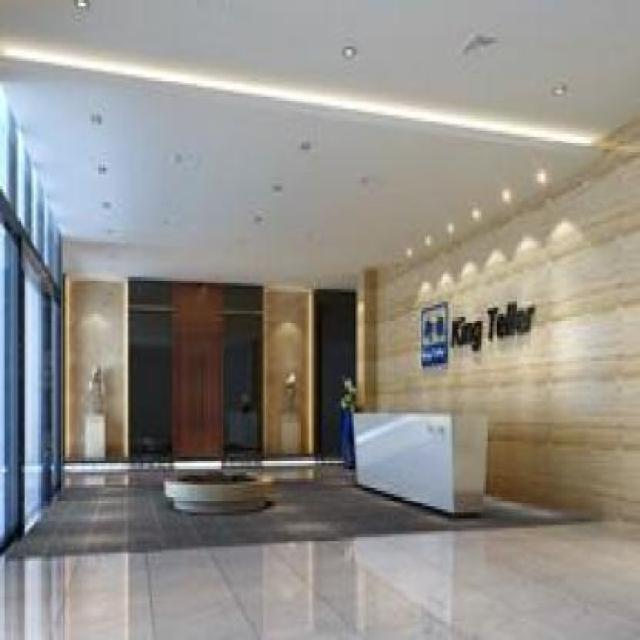frontdesk: (340, 395, 495, 524)
